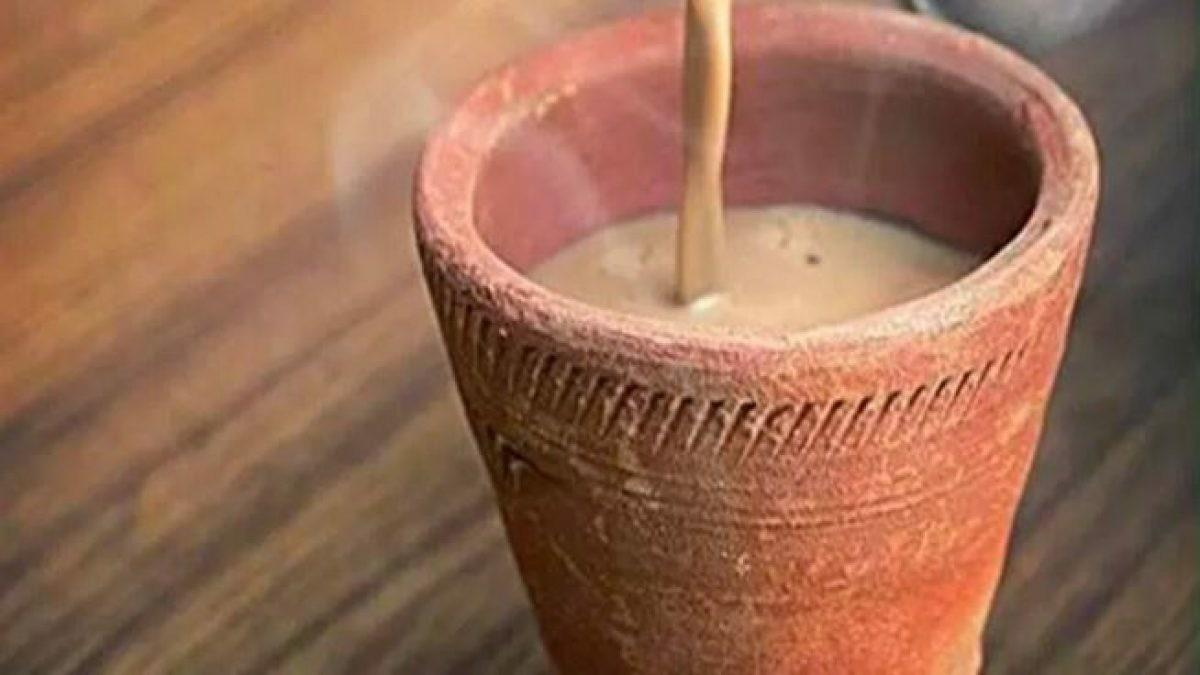Chai: (523, 201, 983, 336), (674, 3, 734, 302)
